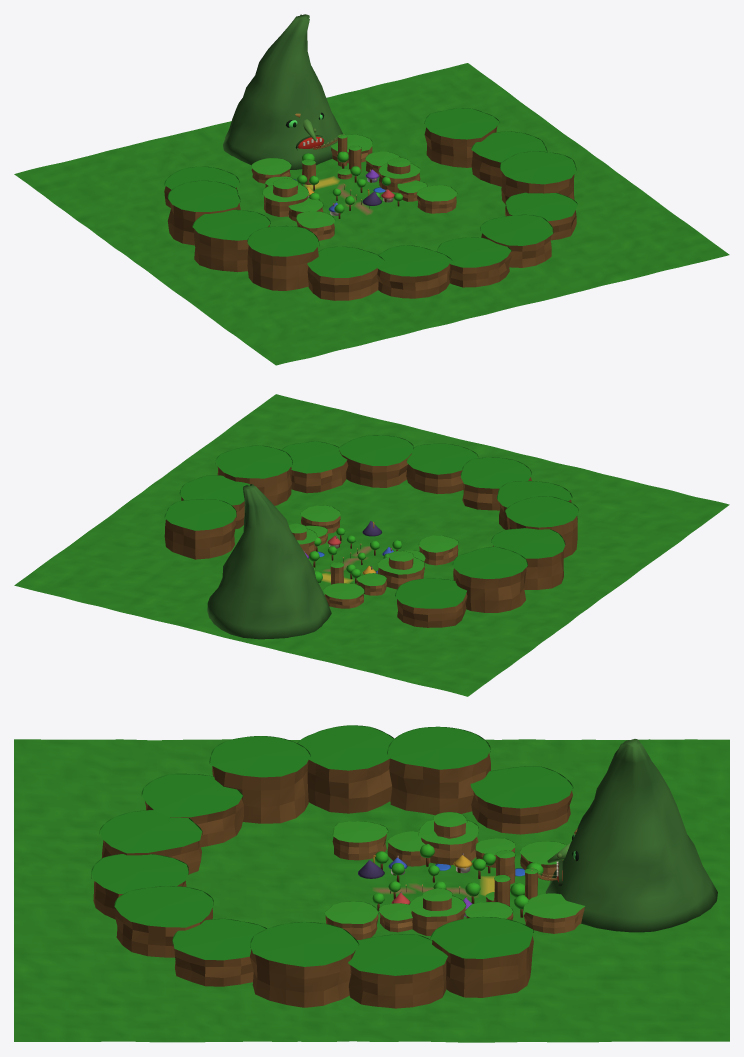
The model's file is island.glb.
3 renders of one model, top to bottom at view 1: azimuth 30°, elevation 25°; view 2: azimuth 150°, elevation 25°; view 3: azimuth 270°, elevation 25°, orthographic. The views are drawn at different scales.
Parts seen in each view (by area): view 1: island; view 2: island; view 3: island.
Boxes of the visible parts, <box> form: island: <box>14,14,729,365</box>; island: <box>14,394,729,696</box>; island: <box>14,725,729,1042</box>.
Bounding box in the file's own units: 220 × 57 × 220.
